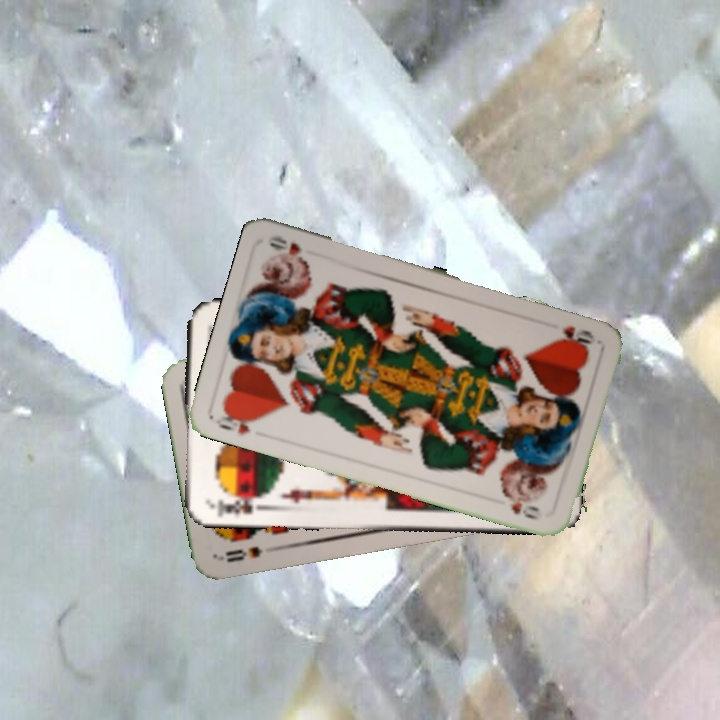HO: (212, 406, 263, 437), (558, 322, 598, 348)
S8: (217, 542, 265, 565)
SK: (206, 492, 265, 519)
